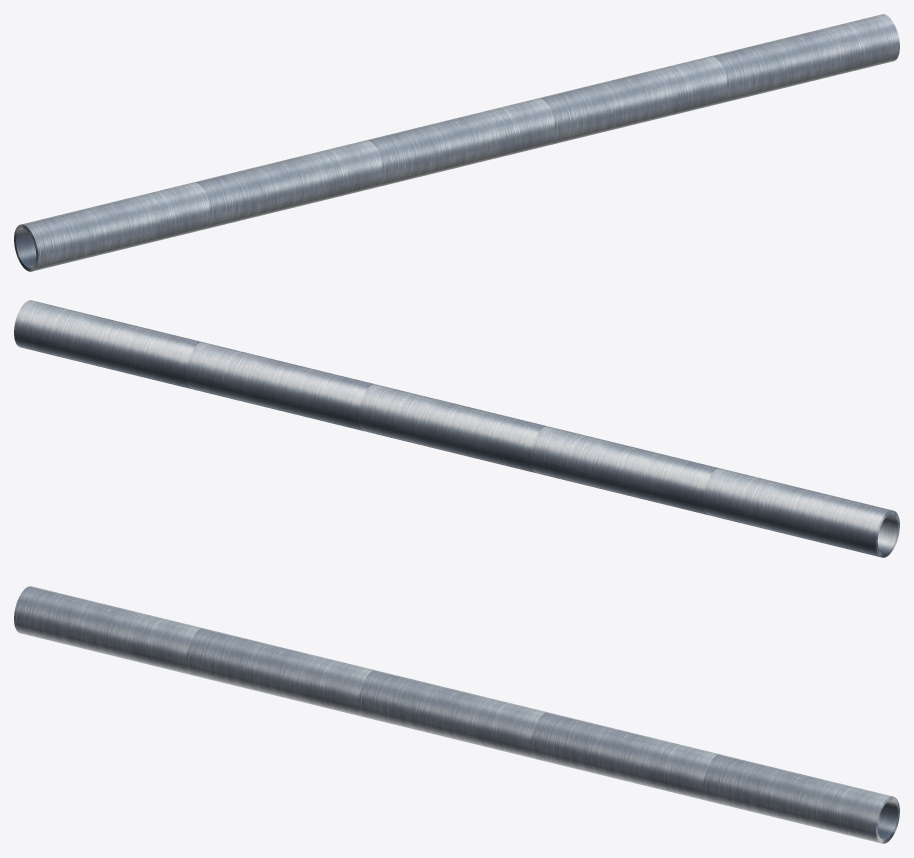
The model's file is tubo.fbx.
The picture shows the model from 3 angles, top to bottom: view 1: azimuth 30°, elevation 25°; view 2: azimuth 150°, elevation 25°; view 3: azimuth 330°, elevation 25°; orthographic projection.
Parts seen in each view (by area): view 1: Cylinder; view 2: Cylinder; view 3: Cylinder.
Boxes of the visible parts, x1,y1,x2,y2 form: Cylinder: [14, 14, 899, 271]; Cylinder: [14, 300, 899, 557]; Cylinder: [14, 586, 899, 843].
Size of the model in its own units: 142 by 6.94 by 6.94.
Materials: 1 (1 with a texture image).
